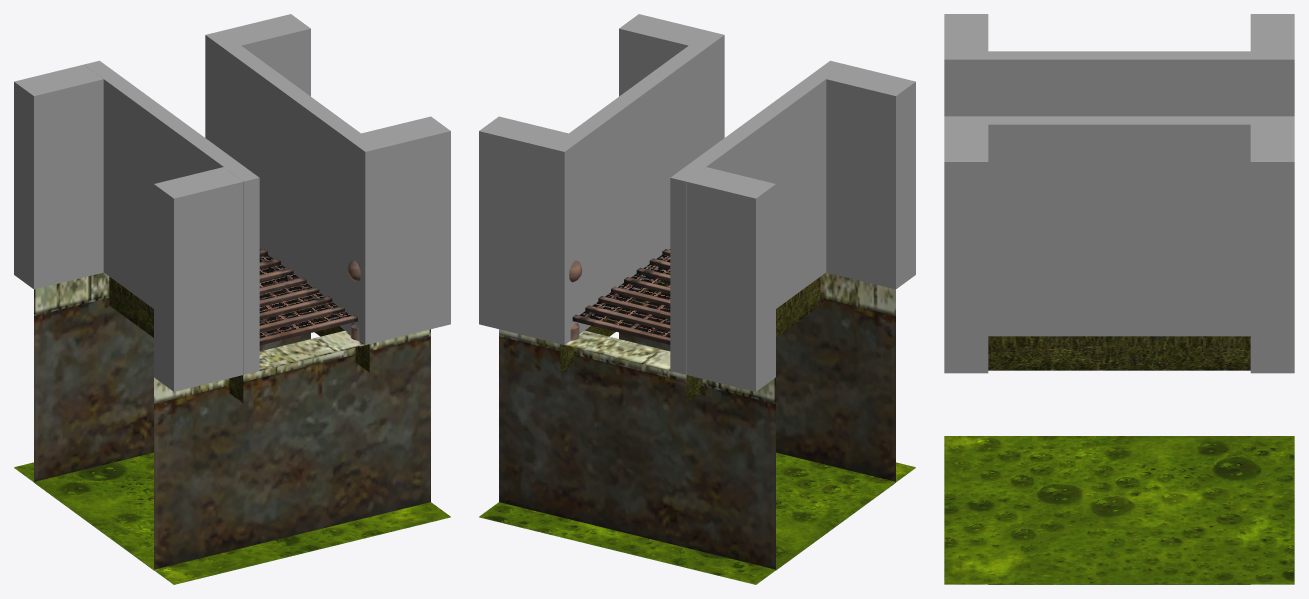
The model's file is sewerDeepBridgeB.fbx.
3 renders of one model, left to right at view 1: azimuth 30°, elevation 25°; view 2: azimuth 150°, elevation 25°; view 3: azimuth 270°, elevation 25°, orthographic. The views are drawn at different scales.
Visible parts, largest first — view 1: sewerDeepBridgeBQ, mvcv_obb_sewerDeepBridgeBQ_02, mvcv_obb_sewerDeepBridgeBQ_05, mvcv_obb_sewerDeepBridgeBQ_06, mvcv_obb_sewerDeepBridgeBQ_01, mvcv_obb_sewerDeepBridgeBQ_04, waterPlaneC10, sewerDeepBridgeB, mvcv_obb_sewerDeepBridgeBQ_03; view 2: sewerDeepBridgeBQ, mvcv_obb_sewerDeepBridgeBQ_02, mvcv_obb_sewerDeepBridgeBQ_05, mvcv_obb_sewerDeepBridgeBQ_06, mvcv_obb_sewerDeepBridgeBQ_01, mvcv_obb_sewerDeepBridgeBQ_03, waterPlaneC10, sewerDeepBridgeB, mvcv_obb_sewerDeepBridgeBQ_04; view 3: mvcv_obb_sewerDeepBridgeBQ_02, waterPlaneC10, mvcv_obb_sewerDeepBridgeBQ_01, mvcv_obb_sewerDeepBridgeBQ_03, mvcv_obb_sewerDeepBridgeBQ_04, sewerDeepBridgeB, mvcv_obb_sewerDeepBridgeBQ_05, mvcv_obb_sewerDeepBridgeBQ_06.
Part boxes in pixels (x1=…): sewerDeepBridgeBQ: x1=34, y1=272, x2=430, y2=570; mvcv_obb_sewerDeepBridgeBQ_02: x1=205, y1=31, x2=381, y2=344; mvcv_obb_sewerDeepBridgeBQ_05: x1=14, y1=64, x2=103, y2=289; mvcv_obb_sewerDeepBridgeBQ_06: x1=154, y1=167, x2=243, y2=391; mvcv_obb_sewerDeepBridgeBQ_01: x1=84, y1=60, x2=259, y2=374; mvcv_obb_sewerDeepBridgeBQ_04: x1=361, y1=116, x2=450, y2=341; waterPlaneC10: x1=14, y1=452, x2=450, y2=584; sewerDeepBridgeB: x1=109, y1=249, x2=369, y2=402; mvcv_obb_sewerDeepBridgeBQ_03: x1=221, y1=14, x2=310, y2=96; sewerDeepBridgeBQ: x1=499, y1=272, x2=895, y2=570; mvcv_obb_sewerDeepBridgeBQ_02: x1=548, y1=31, x2=724, y2=344; mvcv_obb_sewerDeepBridgeBQ_05: x1=686, y1=167, x2=775, y2=391; mvcv_obb_sewerDeepBridgeBQ_06: x1=826, y1=64, x2=915, y2=289; mvcv_obb_sewerDeepBridgeBQ_01: x1=670, y1=60, x2=845, y2=374; mvcv_obb_sewerDeepBridgeBQ_03: x1=479, y1=116, x2=568, y2=341; waterPlaneC10: x1=479, y1=452, x2=915, y2=584; sewerDeepBridgeB: x1=560, y1=249, x2=820, y2=402; mvcv_obb_sewerDeepBridgeBQ_04: x1=619, y1=14, x2=708, y2=96; mvcv_obb_sewerDeepBridgeBQ_02: x1=944, y1=116, x2=1294, y2=336; waterPlaneC10: x1=944, y1=436, x2=1294, y2=583; mvcv_obb_sewerDeepBridgeBQ_01: x1=944, y1=51, x2=1294, y2=116; mvcv_obb_sewerDeepBridgeBQ_03: x1=1250, y1=124, x2=1294, y2=373; mvcv_obb_sewerDeepBridgeBQ_04: x1=944, y1=124, x2=988, y2=373; sewerDeepBridgeB: x1=988, y1=336, x2=1250, y2=370; mvcv_obb_sewerDeepBridgeBQ_05: x1=1250, y1=14, x2=1294, y2=51; mvcv_obb_sewerDeepBridgeBQ_06: x1=944, y1=14, x2=988, y2=51.
Bounding box in the file's own units: 300 × 400 × 300.
7 materials, 6 textured.
